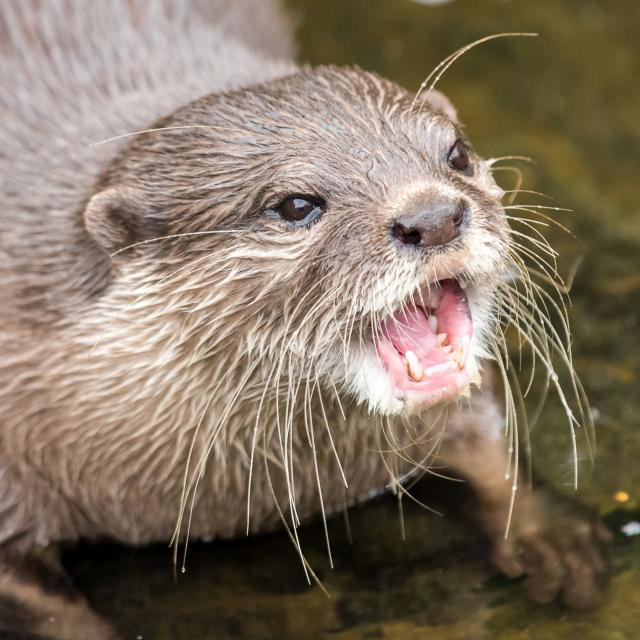otter: (80, 67, 512, 422)
